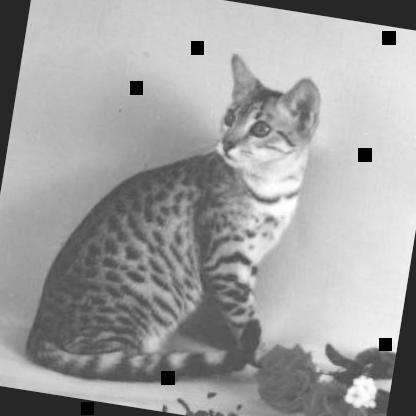cat: (21, 29, 328, 408)
